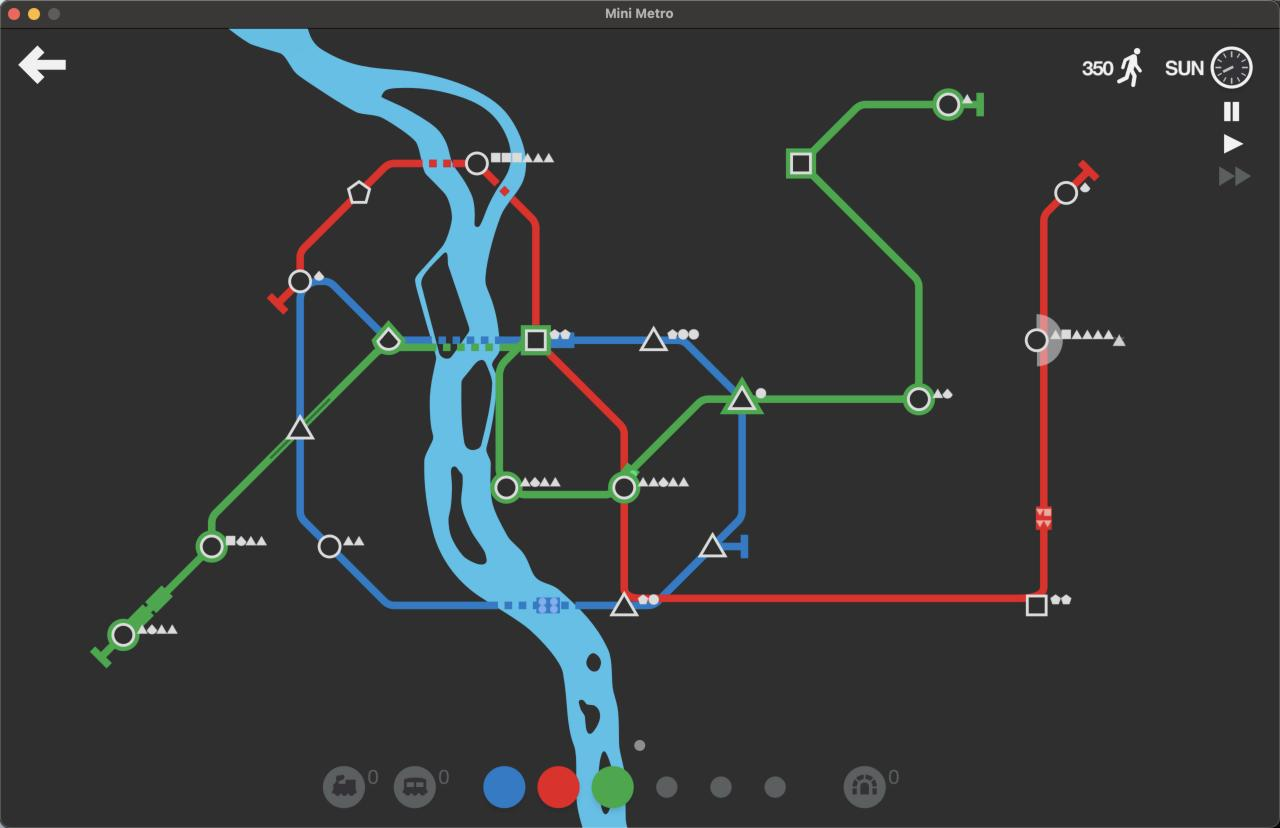CIRCLE: (903, 382, 934, 416), (491, 471, 522, 504), (610, 471, 640, 504), (197, 531, 227, 562), (933, 88, 962, 120), (109, 620, 137, 650), (1053, 180, 1079, 206), (1024, 327, 1049, 353), (288, 268, 313, 293), (317, 534, 342, 559), (465, 151, 489, 176)
PENTAGON: (346, 180, 371, 205)
SQUARE: (521, 325, 551, 356), (786, 148, 813, 178), (1025, 594, 1047, 617)
TRIANGLE: (723, 379, 762, 414), (609, 592, 640, 619), (286, 413, 315, 441), (698, 531, 727, 559), (639, 325, 669, 352)
WEDGE: (371, 321, 404, 355)
